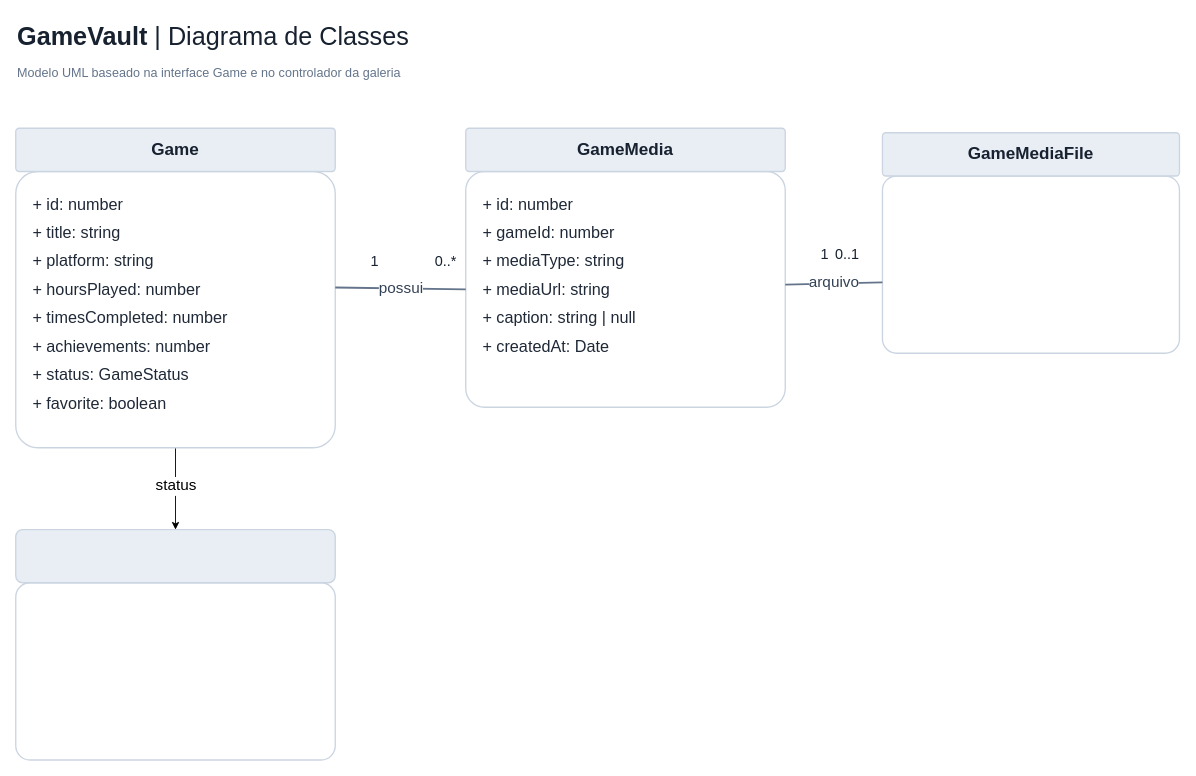
The diagram is 1196 pixels wide and 776 high, and some of its shapes have lost their labels. Here are the shapes that lost their labels. From the top down, the box of each, then its label:
(881, 175, 1180, 354): + mediaId: number + fileData: Buffer + mimeType: string + fileSize: number
(15, 529, 336, 583): <<enumeration>> GameStatus
(15, 582, 336, 760): Jogando Zerado Quero jogar Pausado Abandonado
